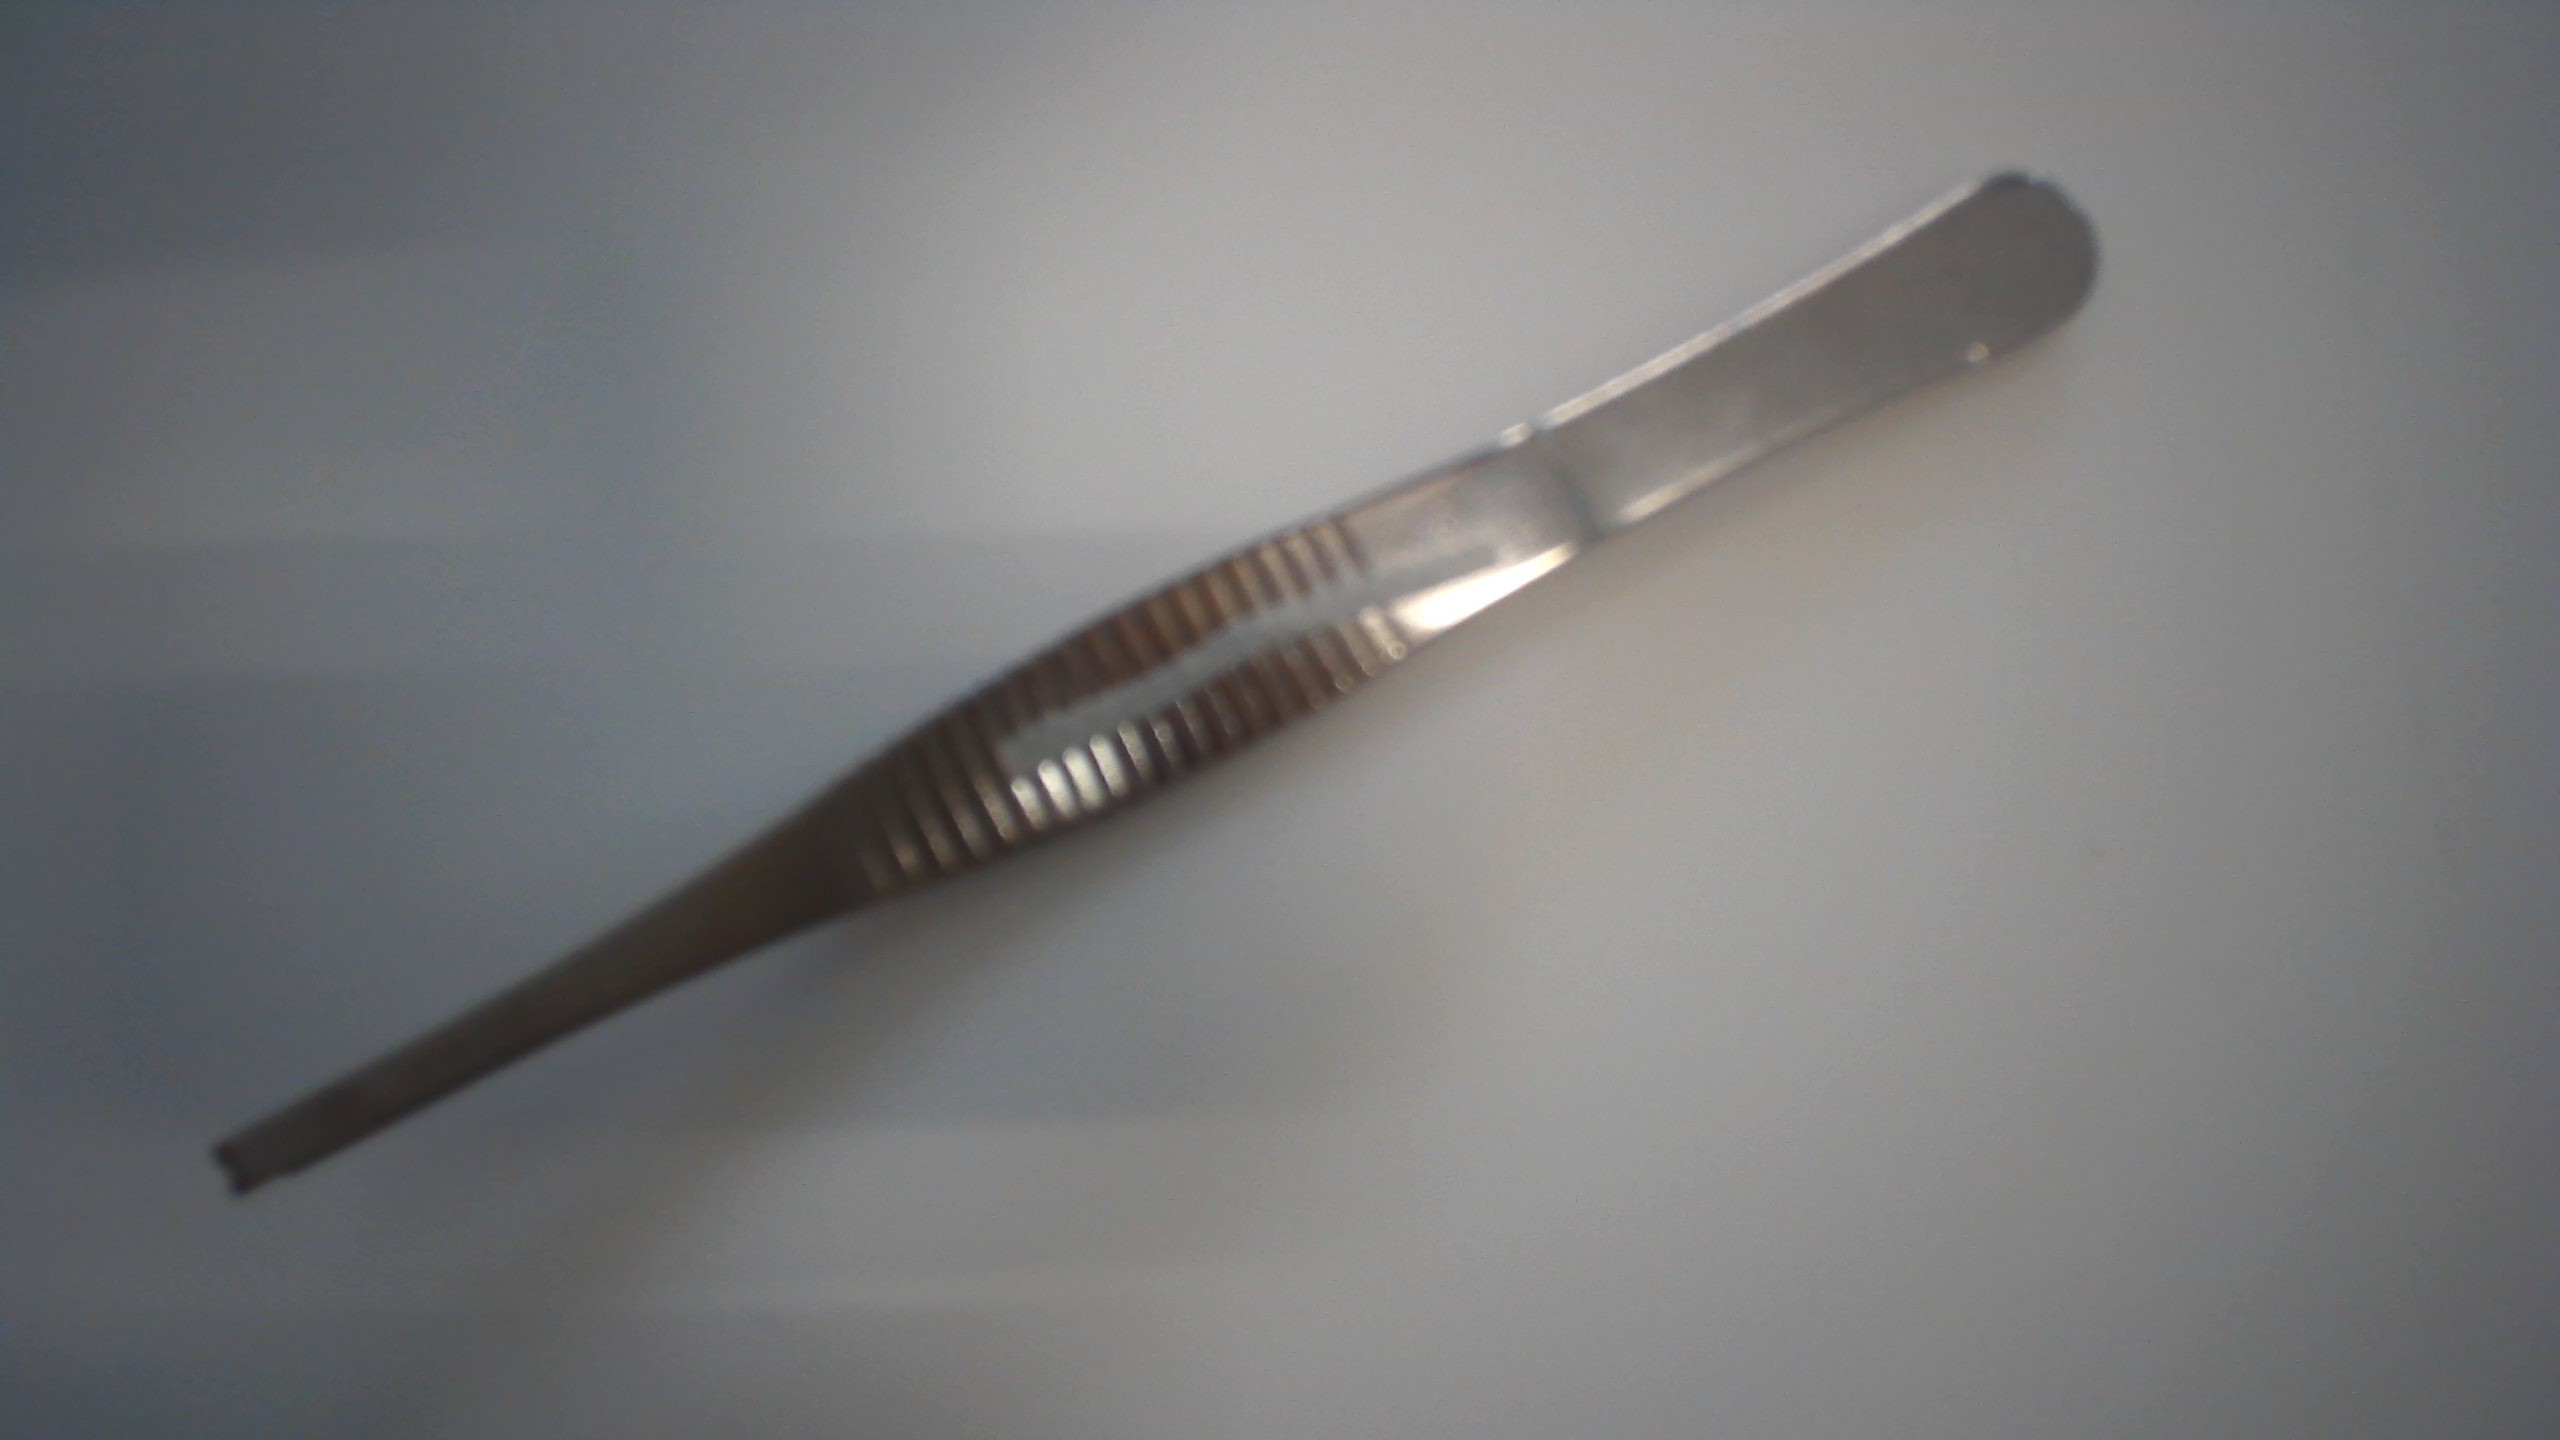Scratches: (983, 520, 1503, 805)
